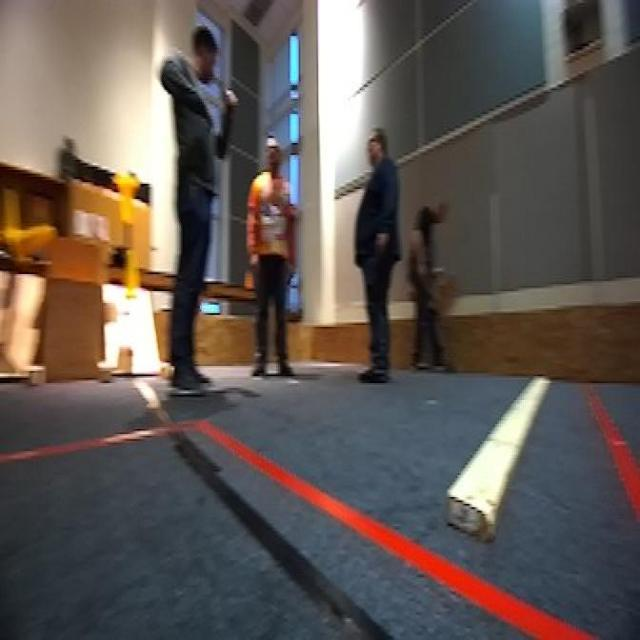frc_cone: (5, 218, 53, 271), (113, 172, 139, 223), (0, 186, 18, 245), (122, 248, 141, 303)
